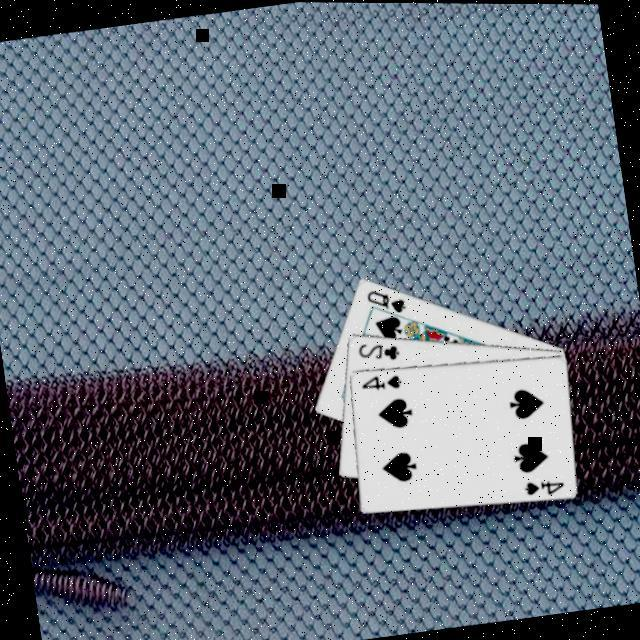2C: (356, 333, 404, 365)
4S: (358, 367, 406, 394), (522, 472, 570, 498)
QS: (364, 281, 412, 319)
